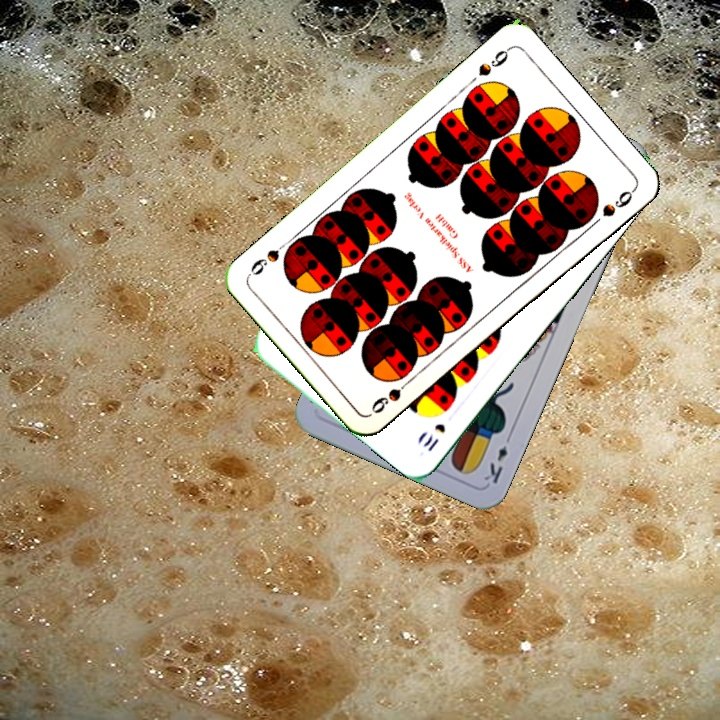EK: (480, 429, 515, 486)
S10: (419, 419, 449, 455)
S9: (366, 373, 416, 417), (474, 43, 513, 79)
